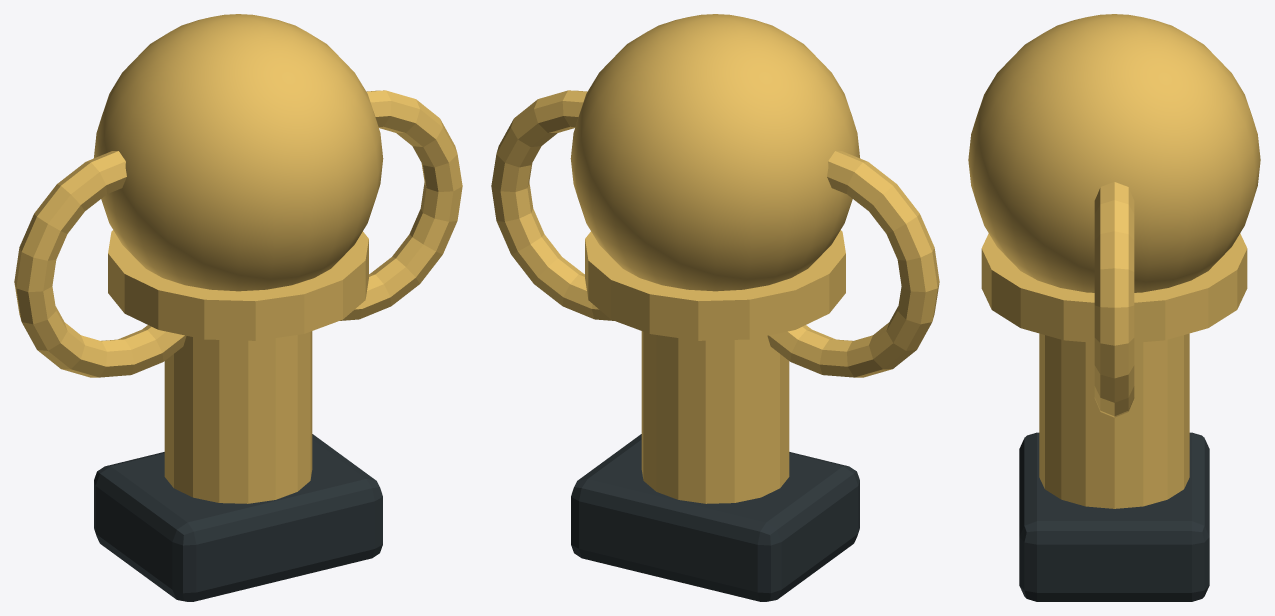
File: trophy.glb
3 views of the same model, side by side, from view 1: azimuth 30°, elevation 25°; view 2: azimuth 150°, elevation 25°; view 3: azimuth 270°, elevation 25° (orthographic).
Visible parts, largest first — view 1: Golden globe, Trophy plinth, Cylinder, Cylinder.001, Torus, Torus.001; view 2: Golden globe, Trophy plinth, Cylinder, Cylinder.001, Torus, Torus.001; view 3: Golden globe, Trophy plinth, Cylinder, Cylinder.001, Torus.001.
Part boxes in pixels (x1,y1,x2,y2): Golden globe: [94, 14, 383, 291]; Trophy plinth: [94, 434, 382, 601]; Cylinder: [164, 331, 312, 503]; Cylinder.001: [108, 230, 368, 340]; Torus: [14, 151, 186, 377]; Torus.001: [340, 90, 462, 320]; Golden globe: [570, 14, 859, 291]; Trophy plinth: [571, 434, 859, 601]; Cylinder: [641, 331, 789, 503]; Cylinder.001: [585, 230, 845, 340]; Torus: [767, 151, 939, 377]; Torus.001: [491, 90, 613, 320]; Golden globe: [968, 14, 1260, 292]; Trophy plinth: [1019, 432, 1209, 601]; Cylinder: [1039, 333, 1189, 508]; Cylinder.001: [981, 233, 1247, 342]; Torus.001: [1094, 182, 1134, 417].
Bounding box in the file's own units: 1.17 × 1.32 × 0.66.
